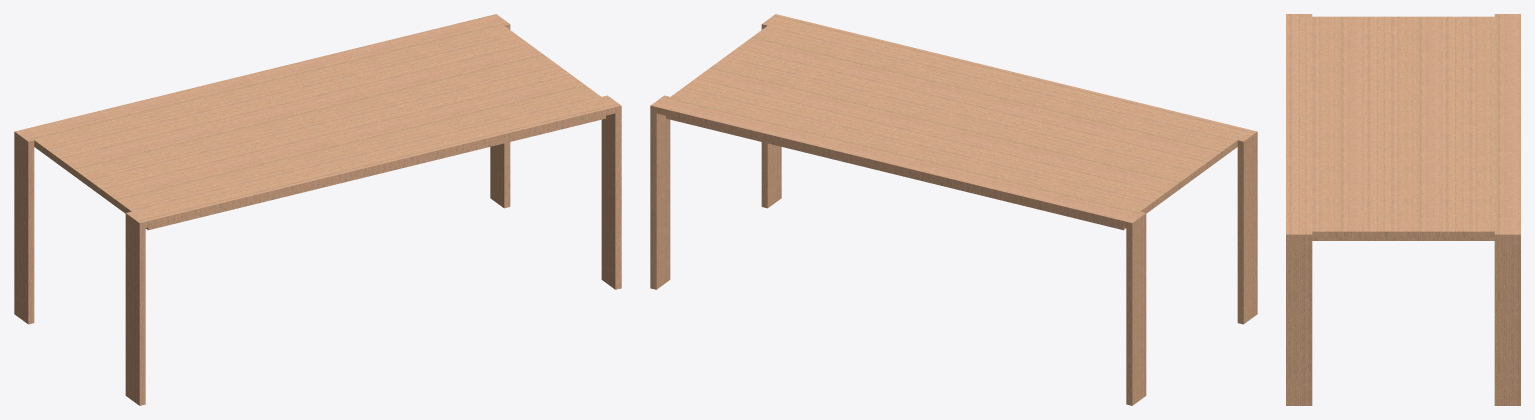
Rendered from table-wood.glb.
The picture shows the model from 3 angles, left to right: view 1: azimuth 30°, elevation 25°; view 2: azimuth 150°, elevation 25°; view 3: azimuth 270°, elevation 25°; orthographic projection. The views are drawn at different scales.
Parts seen in each view (by area): view 1: t_rect_b; view 2: t_rect_b; view 3: t_rect_b.
Part boxes in pixels (left/top/right/bottom): t_rect_b: left=14, top=14, right=621, bottom=405; t_rect_b: left=650, top=14, right=1257, bottom=405; t_rect_b: left=1286, top=14, right=1520, bottom=405.
Bounding box in the file's own units: 2.03 × 0.7366 × 0.9144.
Materials: 1 (1 with a texture image).
